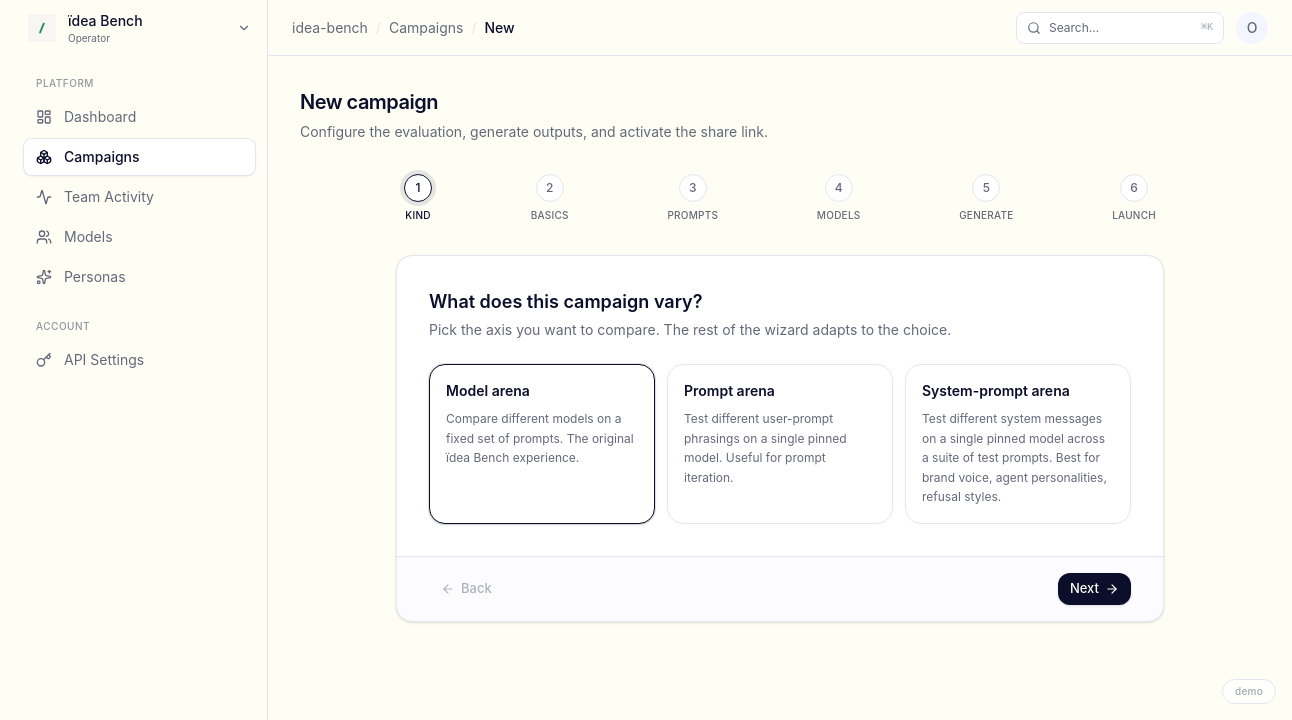
CreateCampaign › Step 3 — variants (kind='prompt') › renders 2 default variants and a pinned-model picker
Click the radio button labelled "Prompt arena" at x=780, y=444, box [667,364,893,524]
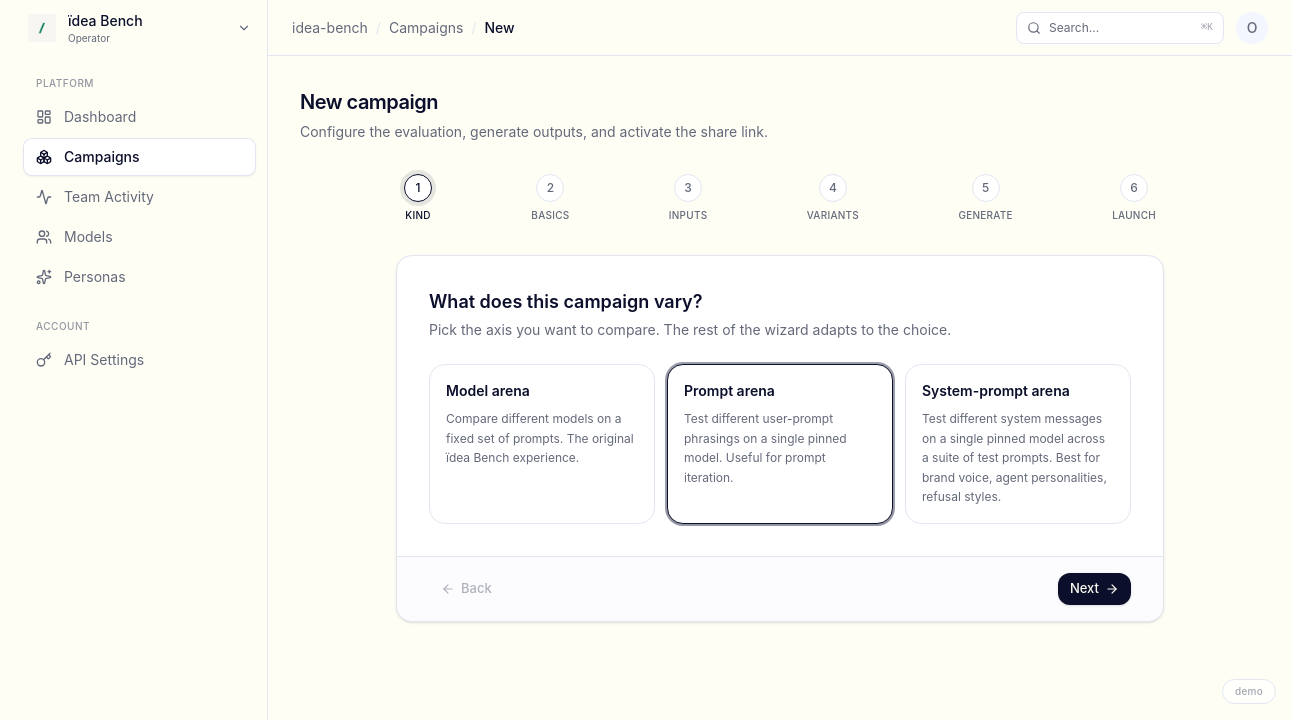
Click the button "Next" at x=1094, y=588, box [1058,572,1131,604]
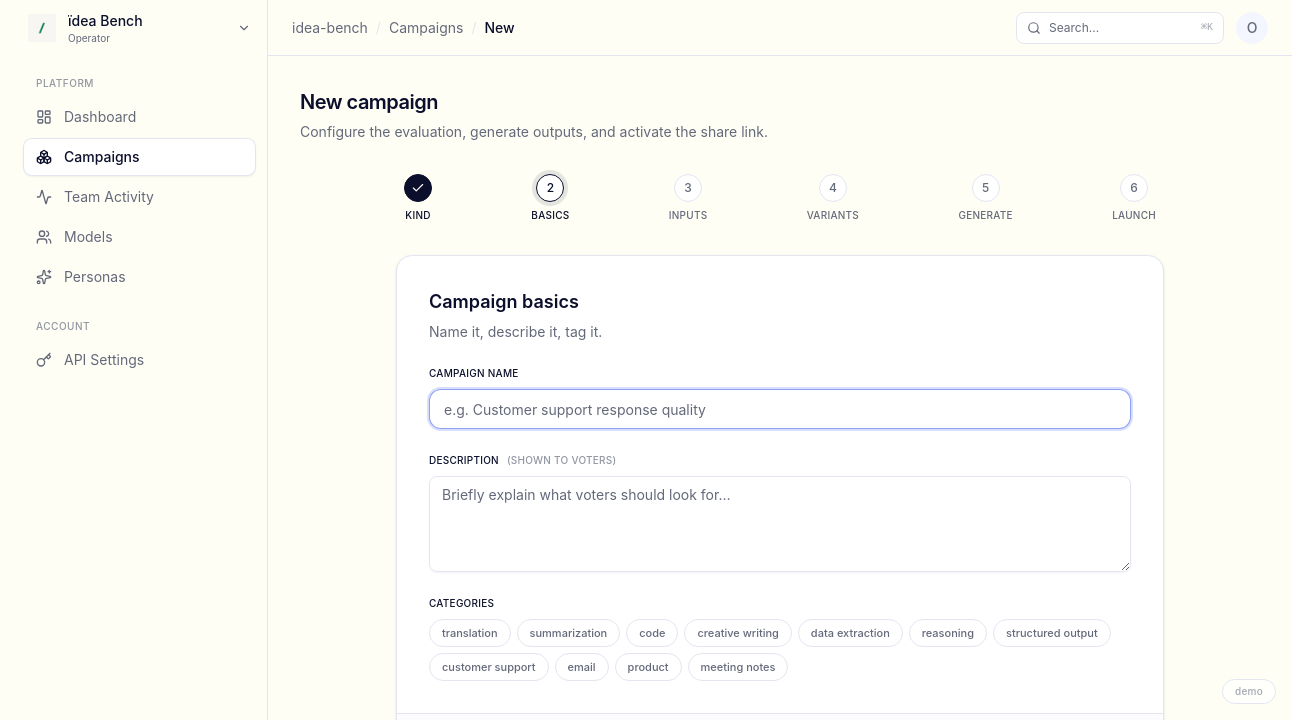
Type "Prompt arena P1-A test" into the field labelled "Campaign name" at x=780, y=409, box [429,389,1131,429]
(page scrolled)
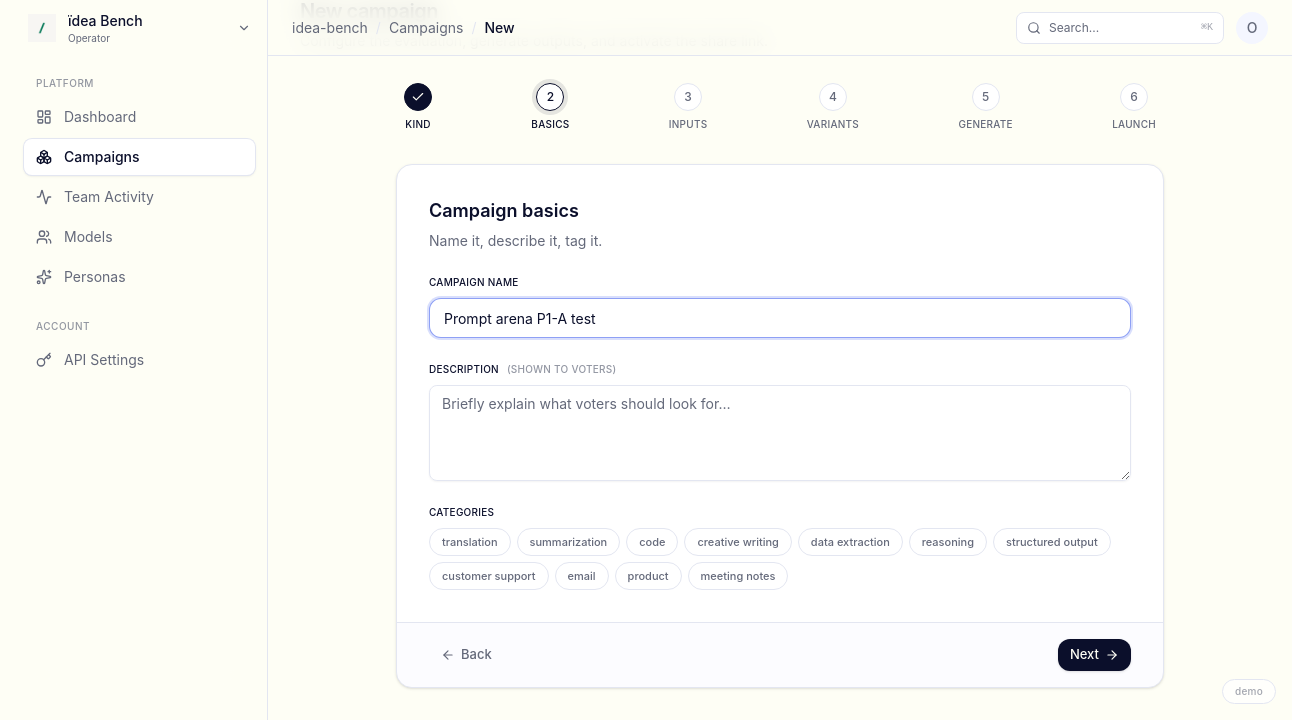
Click the button "Next" at x=1094, y=655, box [1058,639,1131,671]
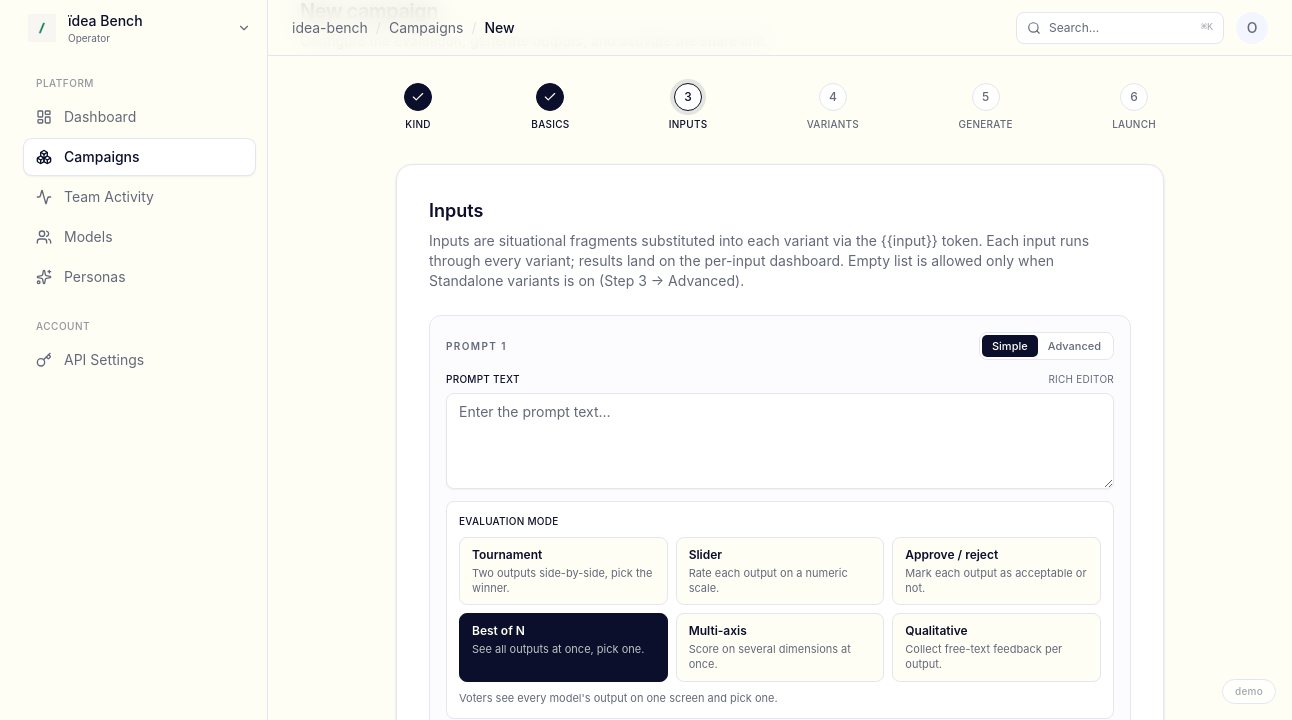
Expected: the heading "Inputs" is shown, [429,200,483,221]
Type "Translate to French." into the text box labelled "Prompt text" at x=780, y=441, box [446,393,1114,489]
(page scrolled)
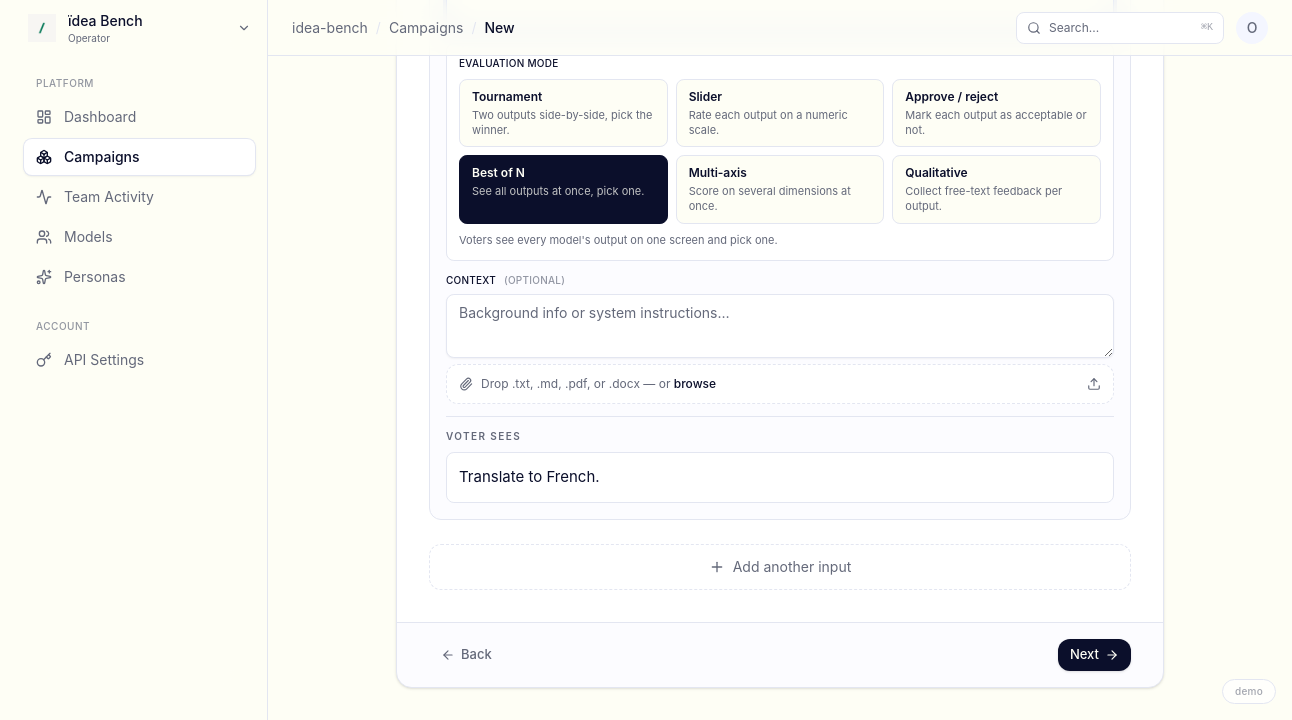
Click the button "Next" at x=1094, y=655, box [1058,639,1131,671]
(page scrolled)
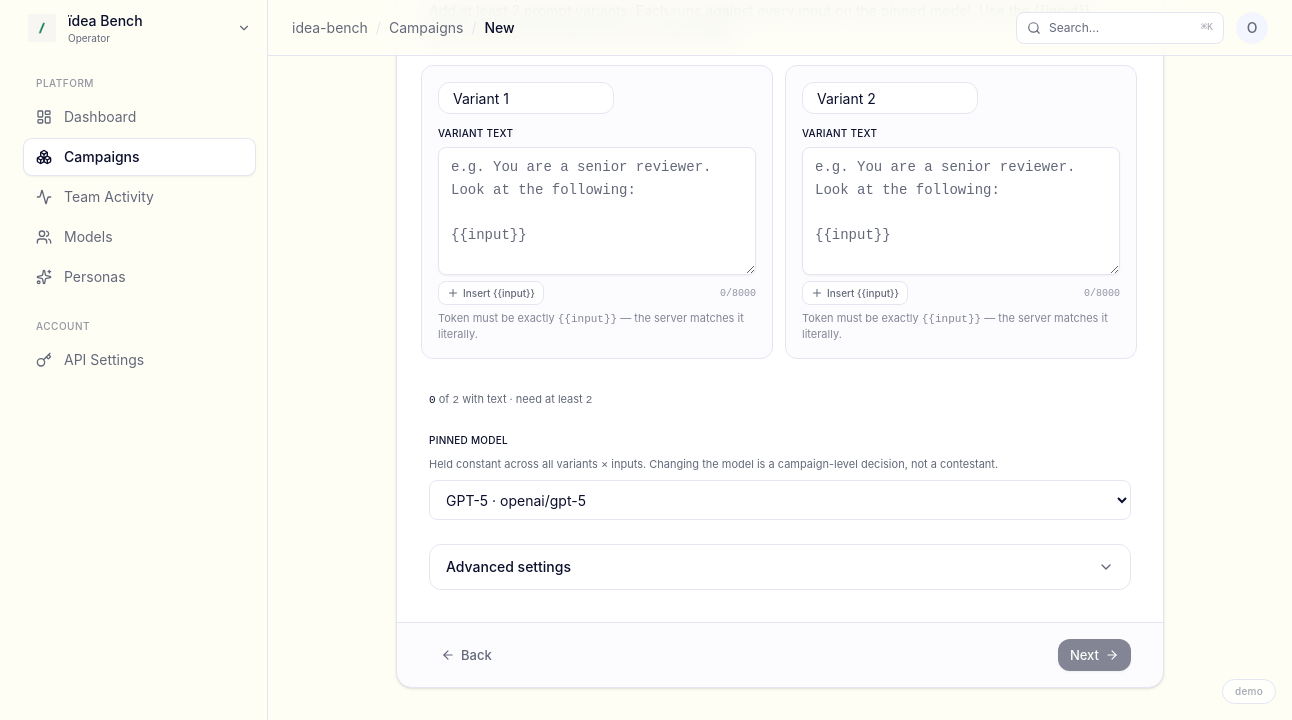
Expected: the field named "variant 1 display name" holds "Variant 1", [438,82,614,114]
Expected: the field named "variant 2 display name" holds "Variant 2", [802,82,978,114]
Expected: the dropdown labelled "Pinned model" shows "GPT-5 · openai/gpt-5", [429,480,1131,520]
